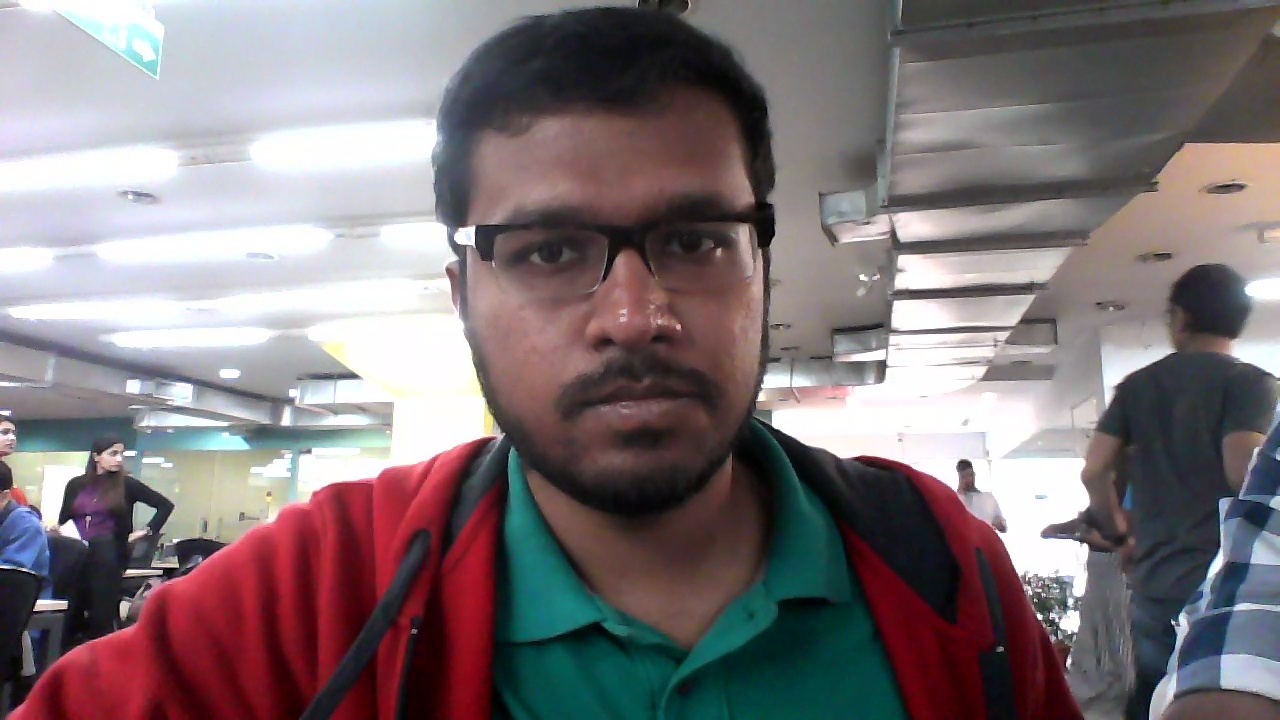open: (432, 11, 785, 512)
